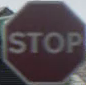Stop: (4, 3, 85, 79)
